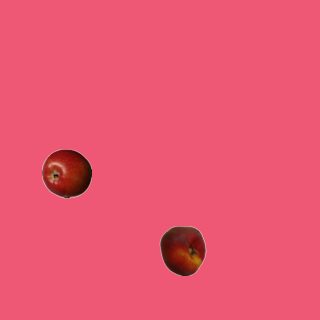Apple Braeburn: (41, 148, 91, 198)
Nectarine Flat: (157, 225, 207, 275)
